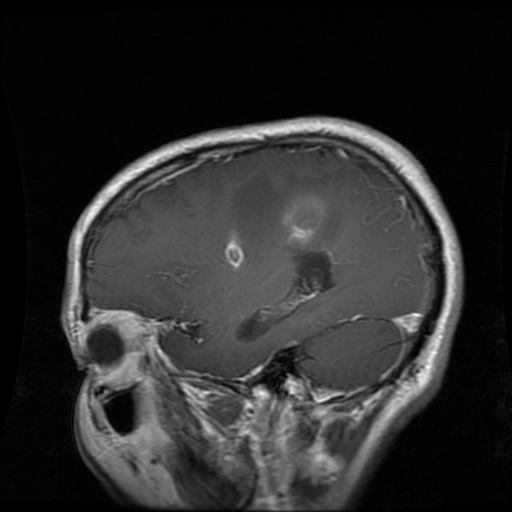glioma: (235, 192, 335, 340)
